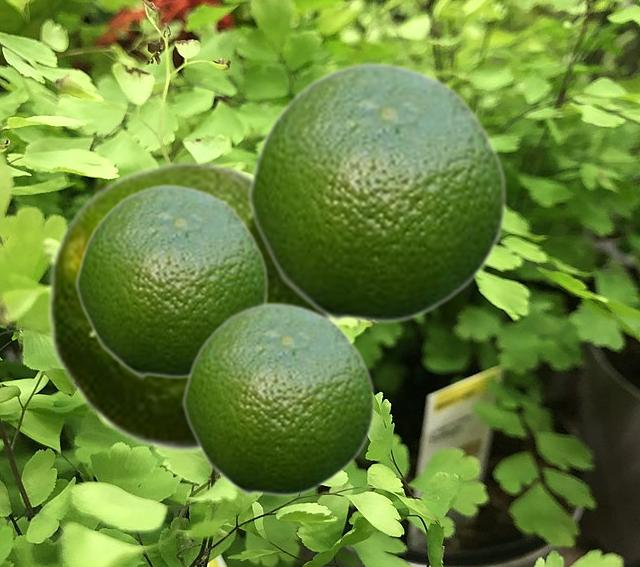calamansi: (45, 159, 310, 451), (246, 59, 507, 323), (74, 182, 268, 378), (181, 300, 375, 496)
